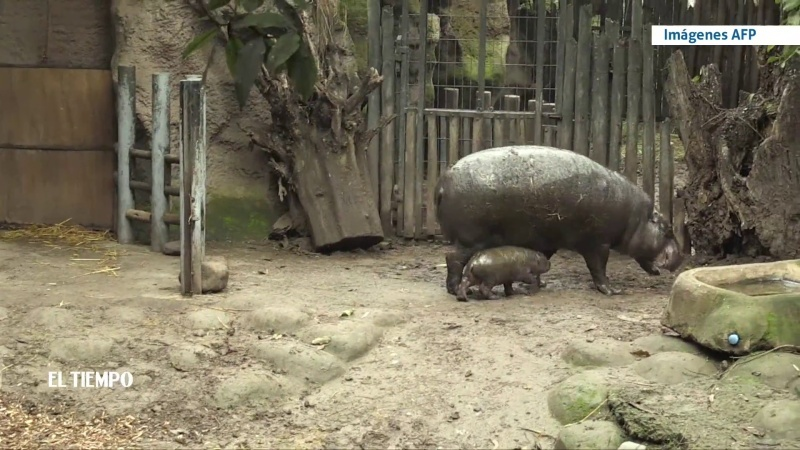hipopotamo: (427, 136, 693, 282), (438, 238, 559, 307)
